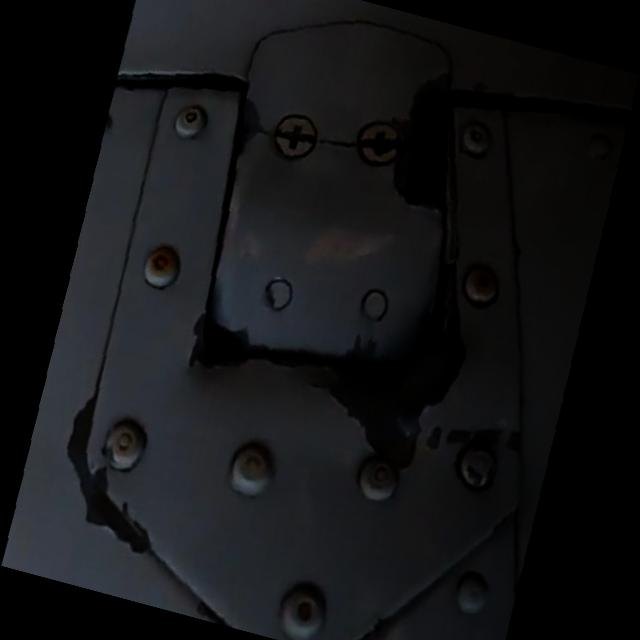crack: (314, 121, 358, 164)
